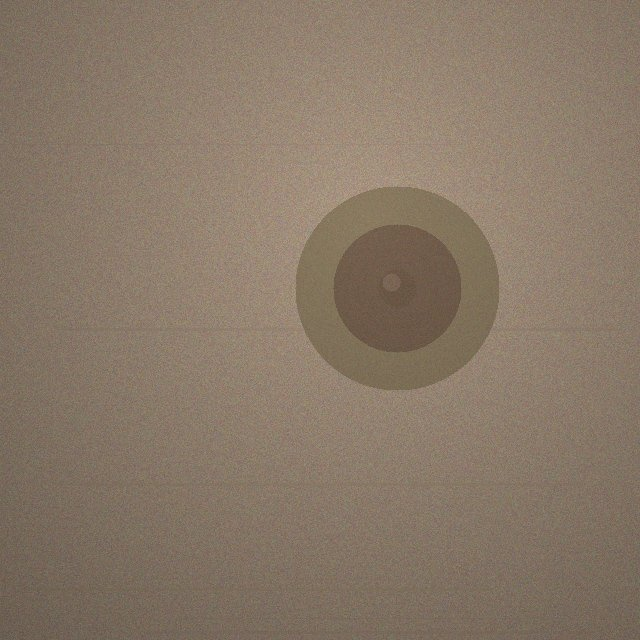good: (295, 186, 499, 390)
